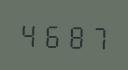eight: (62, 19, 83, 50)
four: (18, 18, 39, 49)
seven: (84, 20, 105, 51)
six: (40, 19, 61, 49)
